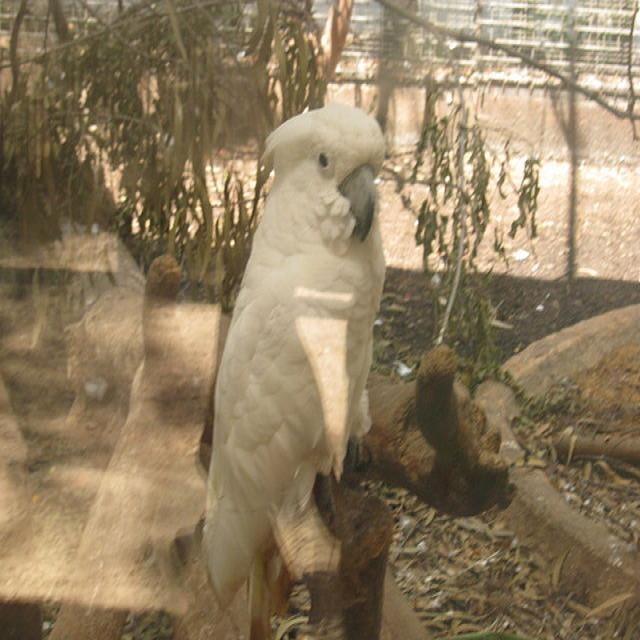Kakatua Putih: (176, 96, 400, 617)
